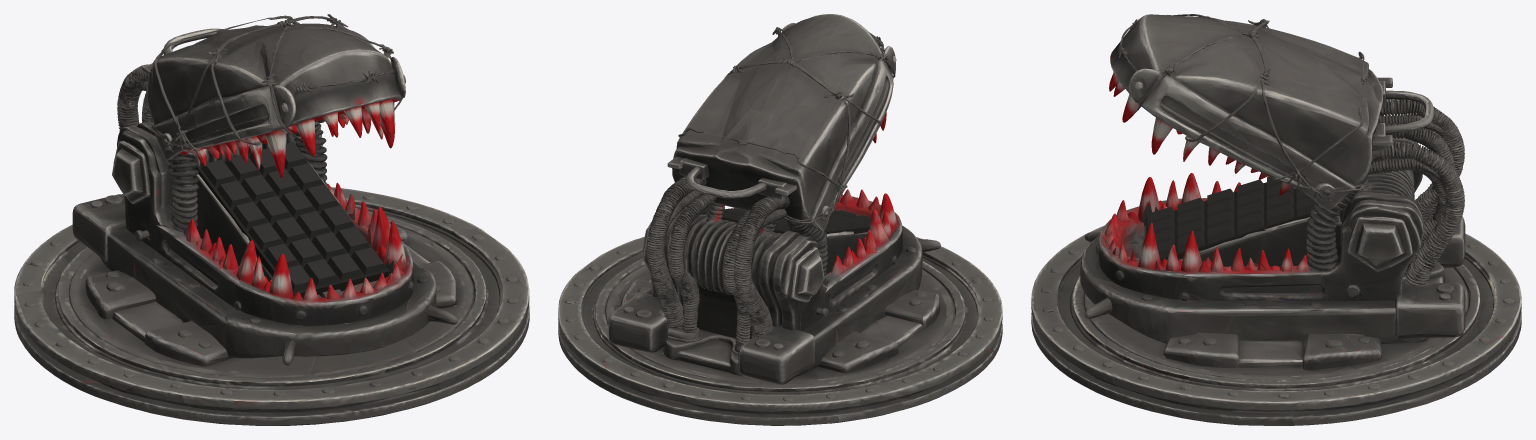
The model's file is Machine.glb.
3 renders of one model, left to right at view 1: azimuth 30°, elevation 25°; view 2: azimuth 150°, elevation 25°; view 3: azimuth 270°, elevation 25°, orthographic. The views are drawn at different scales.
Visible parts, largest first — view 1: Corps, Gueule, Plaque, Bouton_23, Bouton_24, Bouton_22, Bouton_05, Bouton_15, Bouton_09, Bouton_10, Bouton_11, Bouton_18 (+11 smaller); view 2: Corps, Gueule; view 3: Corps, Gueule, Plaque.
Boxes of the visible parts, x1,y1,x2,y2 form: Corps: [14, 28, 529, 425]; Gueule: [146, 14, 405, 178]; Plaque: [196, 154, 389, 297]; Bouton_23: [327, 253, 360, 280]; Bouton_24: [351, 247, 384, 274]; Bouton_22: [303, 259, 337, 286]; Bouton_05: [217, 180, 250, 207]; Bouton_15: [296, 211, 329, 238]; Bouton_09: [232, 201, 266, 228]; Bouton_10: [256, 196, 289, 223]; Bouton_11: [280, 190, 313, 217]; Bouton_18: [288, 238, 321, 265]; Corps: [558, 147, 1002, 425]; Gueule: [672, 14, 896, 223]; Corps: [1031, 77, 1521, 425]; Gueule: [1109, 14, 1379, 195]; Plaque: [1145, 182, 1309, 261].
Bounding box in the file's own units: 1.9 × 1.29 × 1.9.
Materials: 1 (1 with a texture image).
